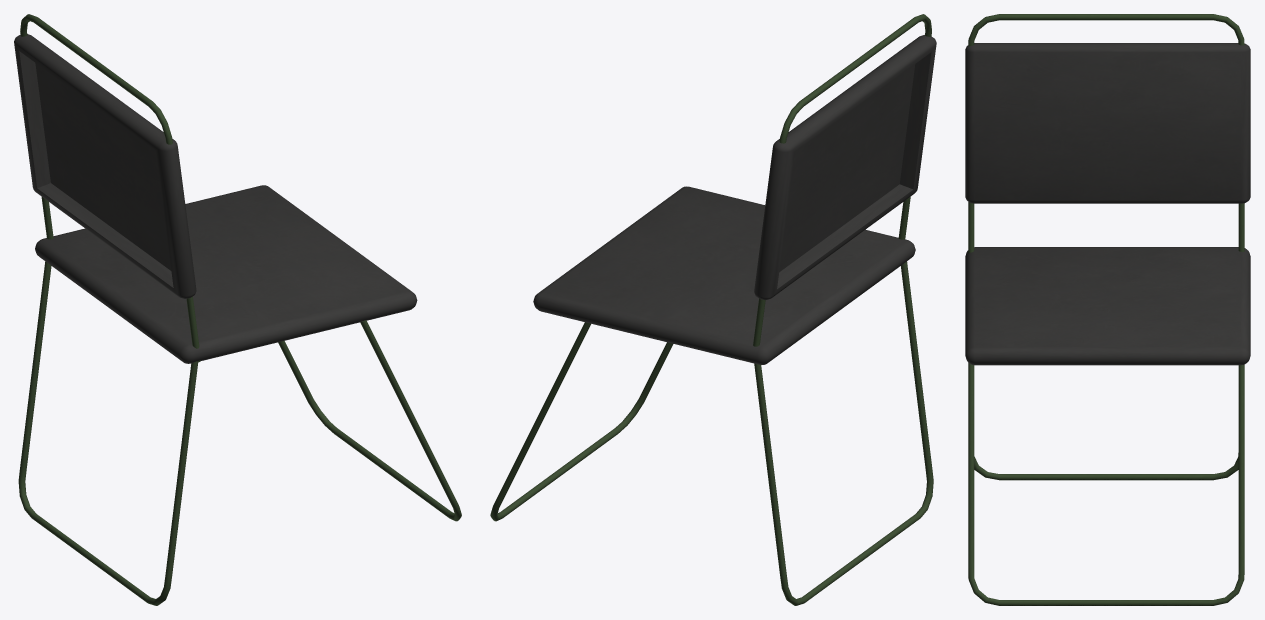
Rendered from Chair.fbx.
3 renders of one model, left to right at view 1: azimuth 30°, elevation 25°; view 2: azimuth 150°, elevation 25°; view 3: azimuth 270°, elevation 25°, orthographic. The views are drawn at different scales.
Visible parts, largest first — view 1: Cube_2, Cube_1, Ben, Cube; view 2: Cube_2, Cube_1, Ben, Cube; view 3: Cube, Cube_2, Ben.
Boxes of the visible parts, x1,y1,x2,y2 form: Cube_2: (35,185,417,363); Cube_1: (19,51,173,287); Ben: (18,14,461,605); Cube: (14,34,196,298); Cube_2: (533,186,915,364); Cube_1: (777,52,931,288); Ben: (490,14,933,605); Cube: (754,35,936,299); Cube: (965,43,1250,203); Cube_2: (965,247,1250,365); Ben: (968,14,1244,605).
Bounding box in the file's own units: 52.13 × 81.15 × 45.
Materials: 2 (2 with a texture image).
